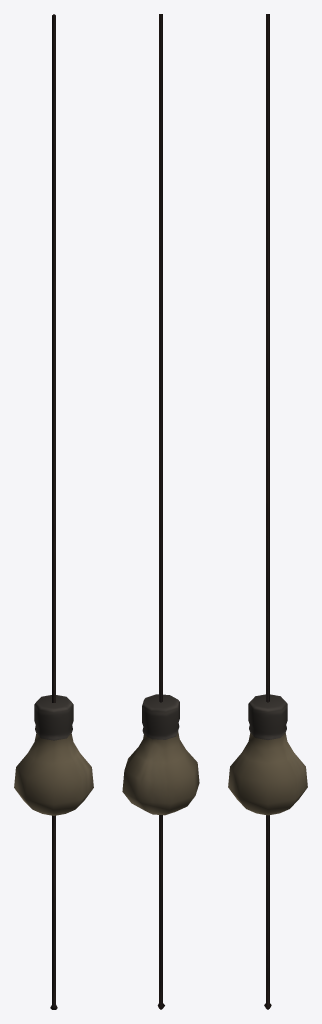
The model's file is HangingLight.fbx.
3 views of the same model, side by side, from view 1: azimuth 90°, elevation 25°; view 2: azimuth 150°, elevation 25°; view 3: azimuth 270°, elevation 25° (orthographic).
Parts seen in each view (by area): view 1: HangingLightbulb; view 2: HangingLightbulb; view 3: HangingLightbulb.
Boxes of the visible parts, bbox=[...] form: HangingLightbulb: bbox=[14, 14, 93, 1009]; HangingLightbulb: bbox=[122, 14, 199, 1009]; HangingLightbulb: bbox=[228, 14, 307, 1009].
Bounding box in the file's own units: 0.9712 × 13.34 × 0.9712.
